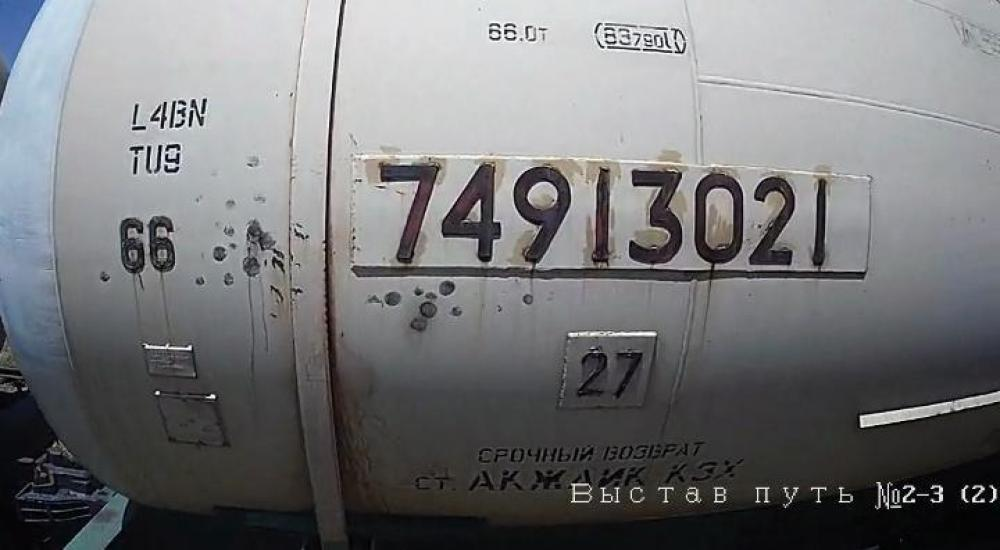Wagon-number: (374, 154, 835, 278)
